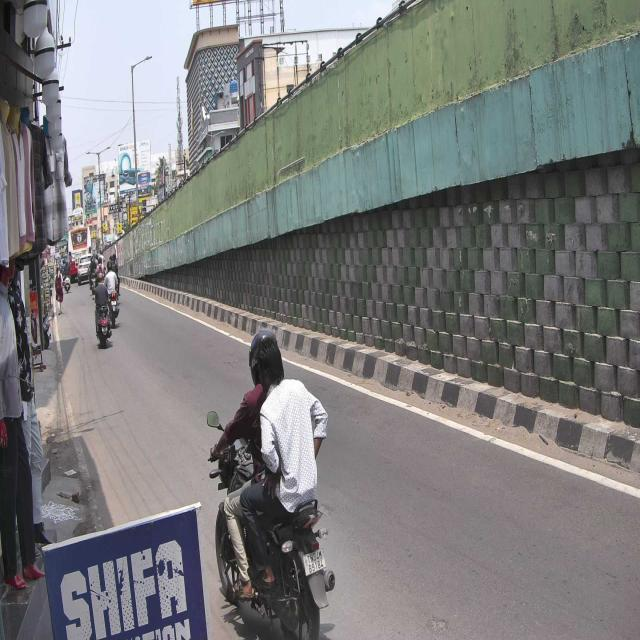double_rider: (209, 327, 335, 640)
